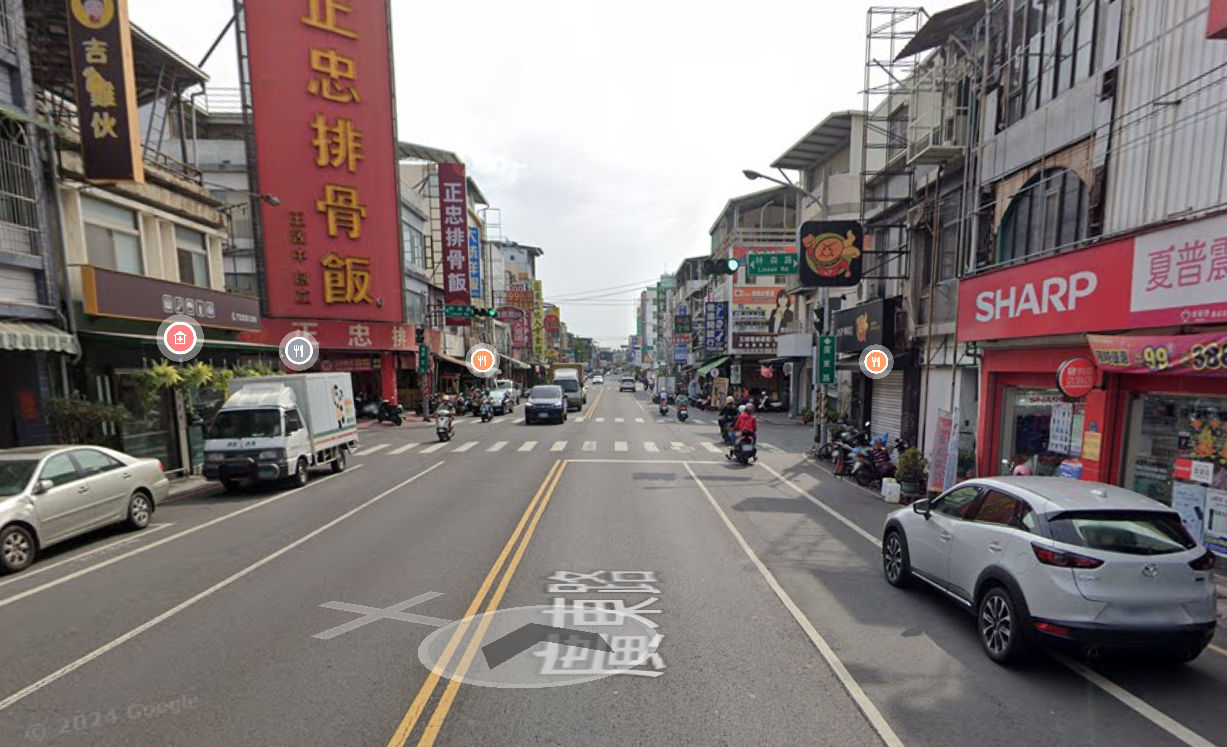green: (702, 255, 741, 278), (470, 304, 497, 319)
